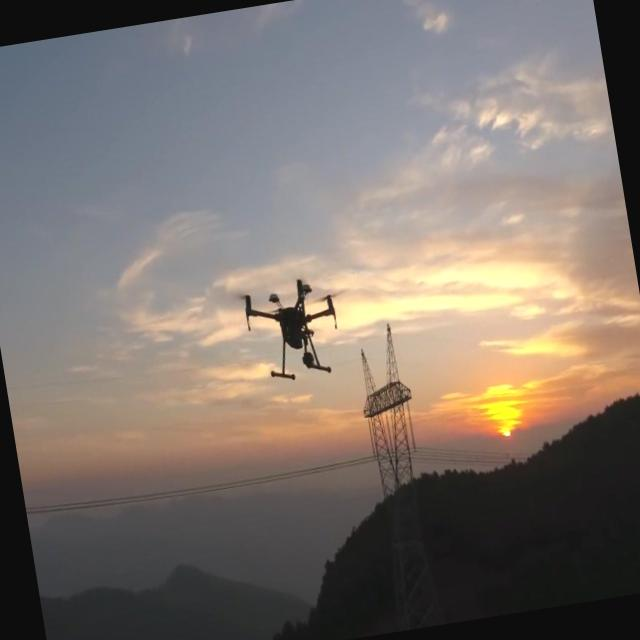drone: (238, 269, 344, 389)
